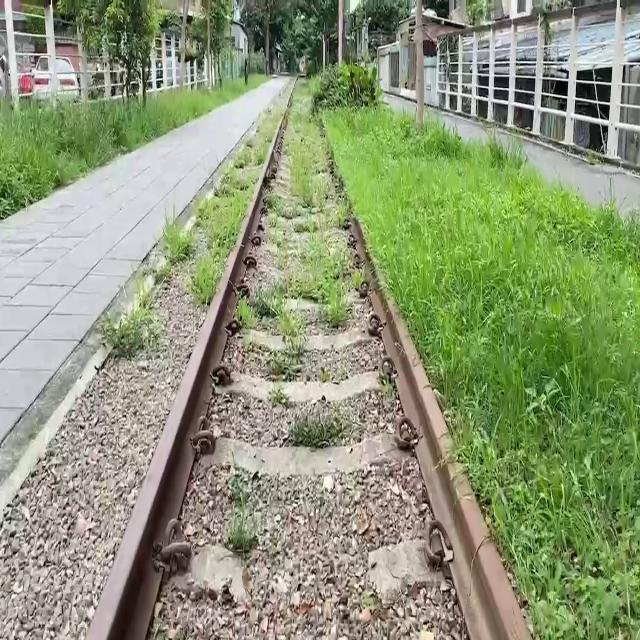rail: (74, 73, 561, 640)
